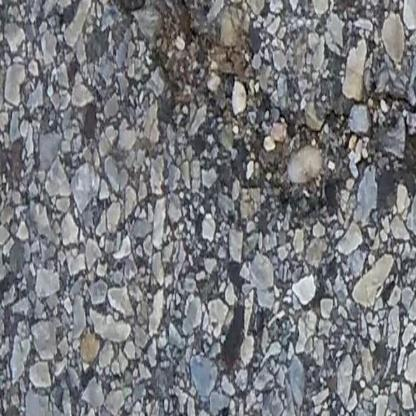Cracks: (103, 0, 416, 210)
